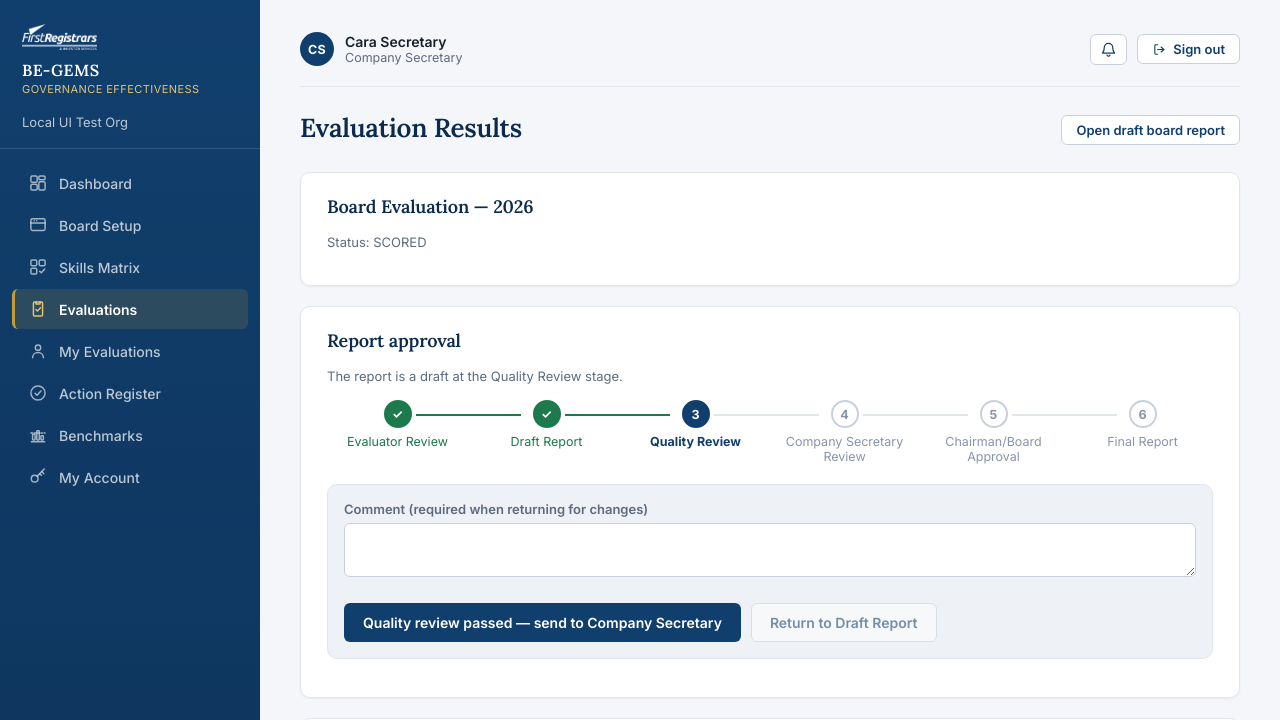
EvaluationResultsPage › moves the report on to the next approval stage
The image size is (1280, 720).
Expected: the text "The report is a draft at the Quality Review stage." is shown, [327,368,623,384]
Click the button "Quality review passed — send to Company Secretary" at (542,622), box [344,603,741,642]
(page scrolled)
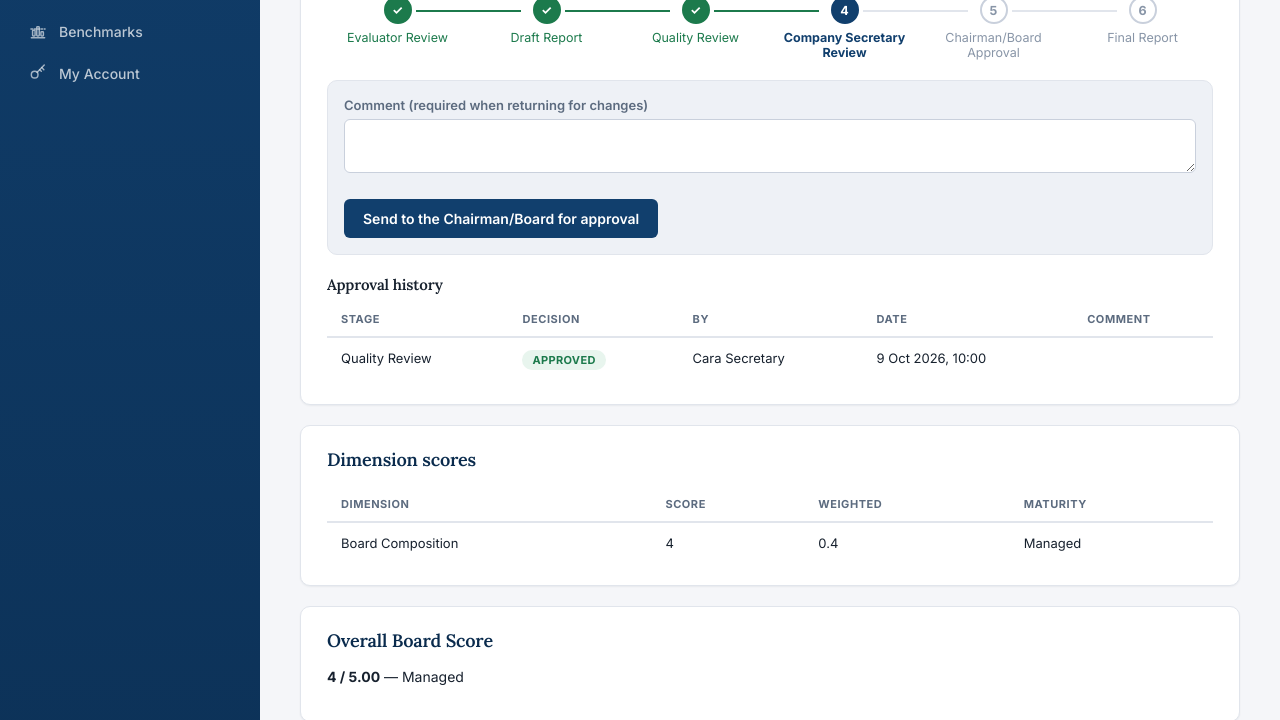
Now the text "Approved" is shown, box [522,350,606,370]
